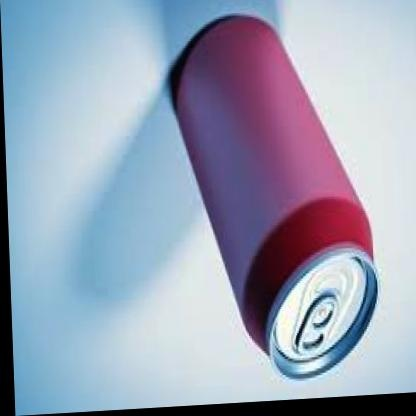trash: (170, 16, 376, 377)
